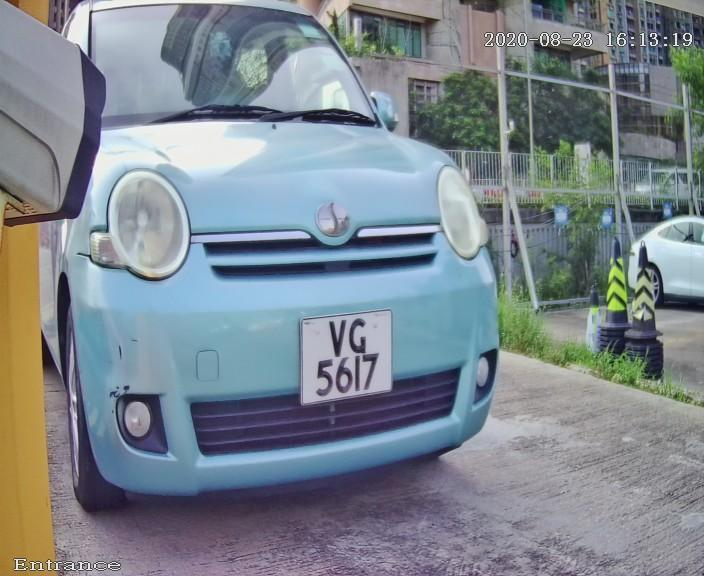Car: (10, 1, 544, 559)
License Plate: (290, 301, 403, 417)
